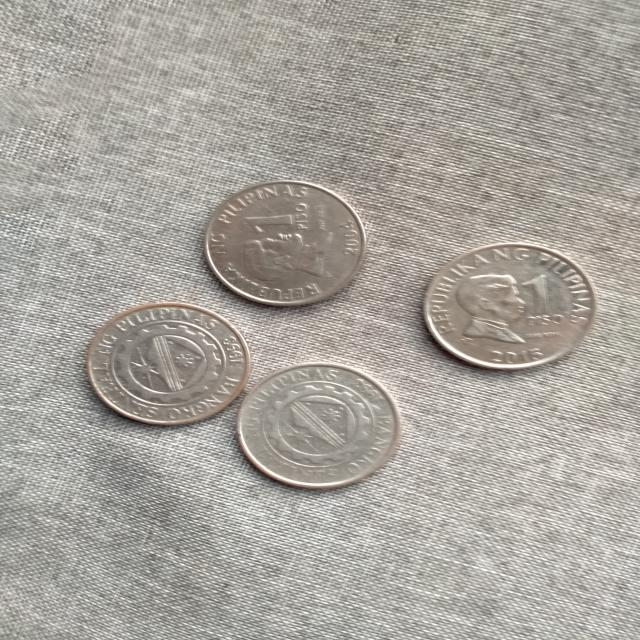1_Old_Back: (254, 376, 381, 470), (104, 320, 230, 410)
